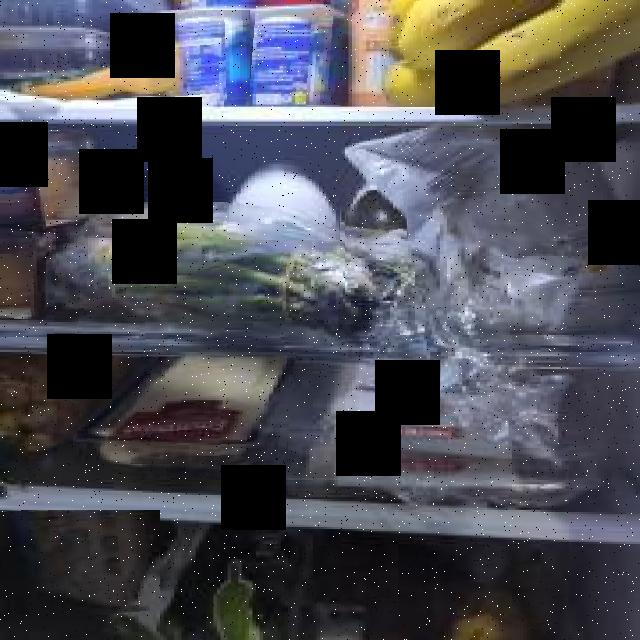asparagus: (46, 202, 441, 346)
banana: (437, 0, 640, 113), (394, 0, 561, 70), (378, 62, 461, 107), (379, 1, 421, 65)
bread: (0, 510, 160, 621)
cheese: (73, 355, 297, 466)
grated_cheese: (345, 122, 640, 335)
humus: (0, 130, 100, 228), (0, 226, 68, 320)
milk: (228, 159, 342, 240)
pear: (491, 548, 565, 640), (443, 582, 528, 640)
tomato: (343, 190, 407, 243)
yogurt: (246, 4, 348, 107), (154, 10, 250, 106)
